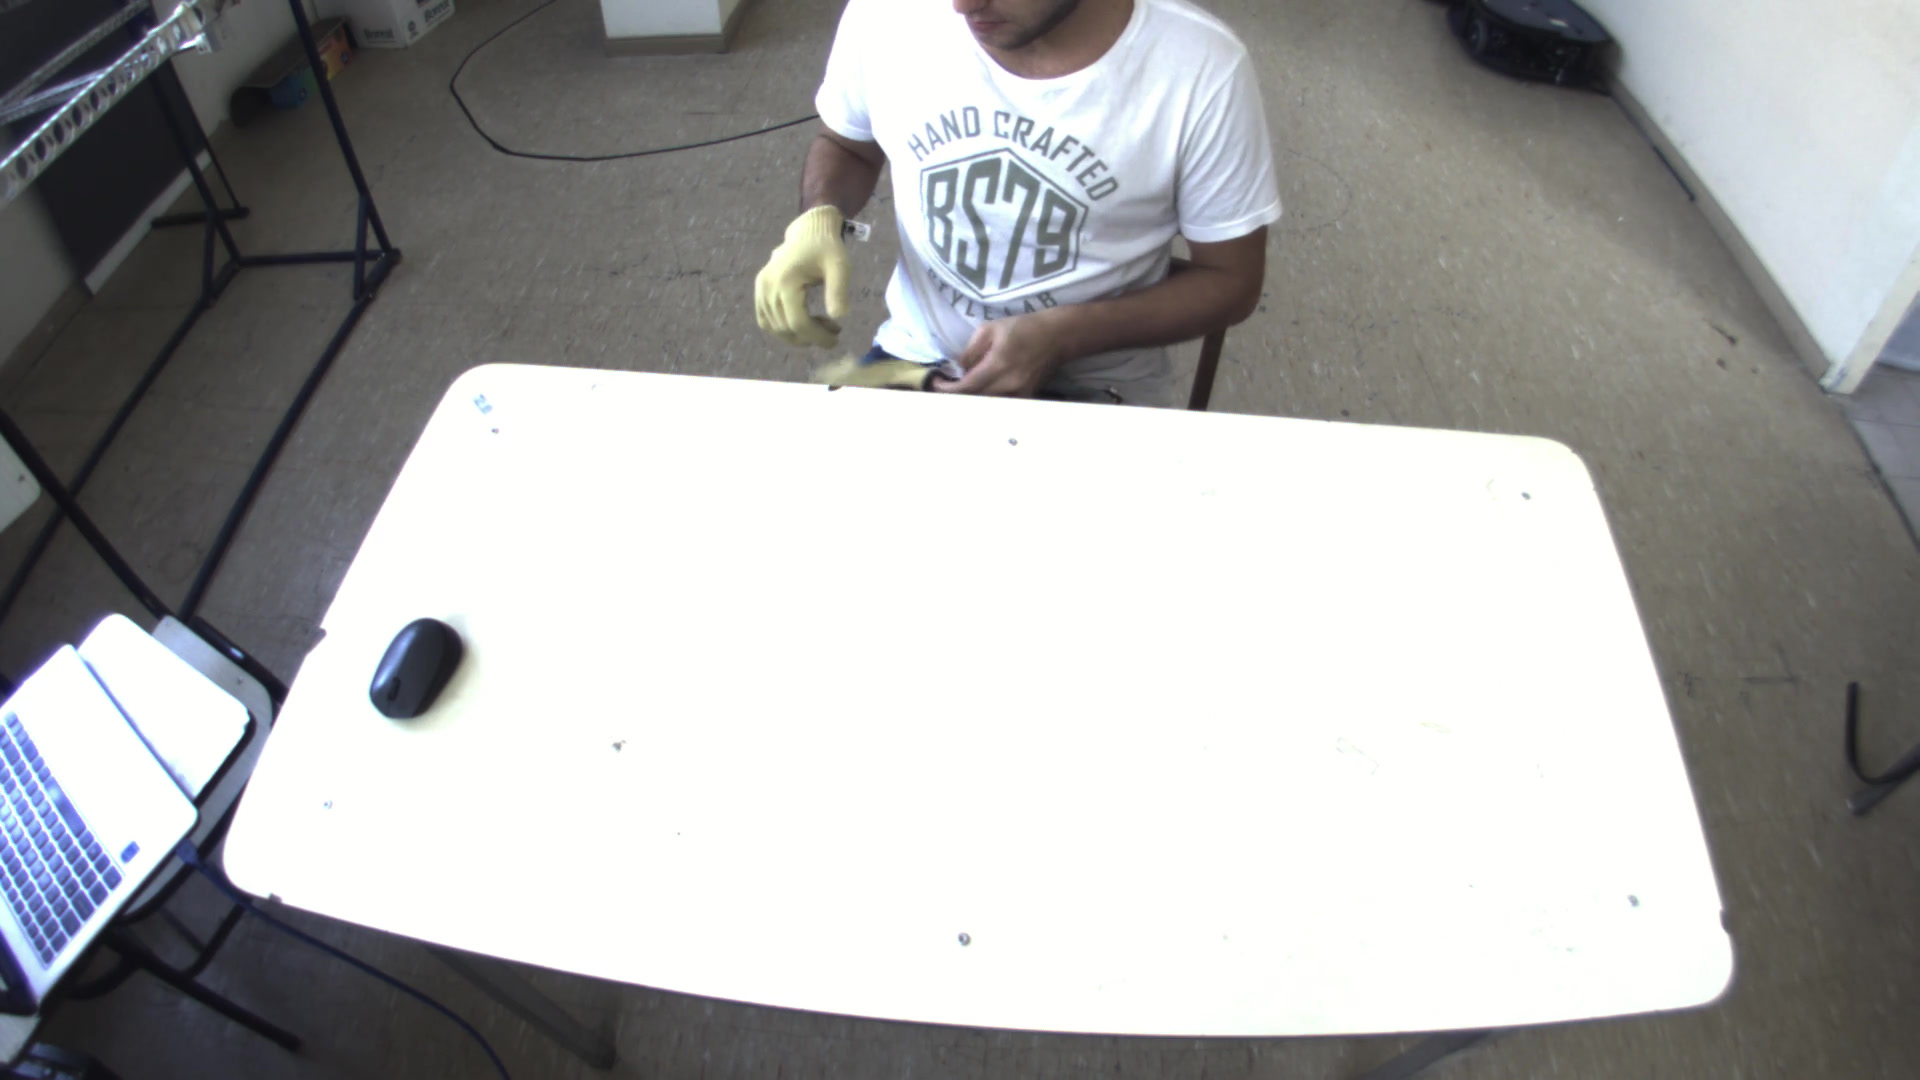hand: (735, 189, 858, 343), (939, 301, 1079, 400)
